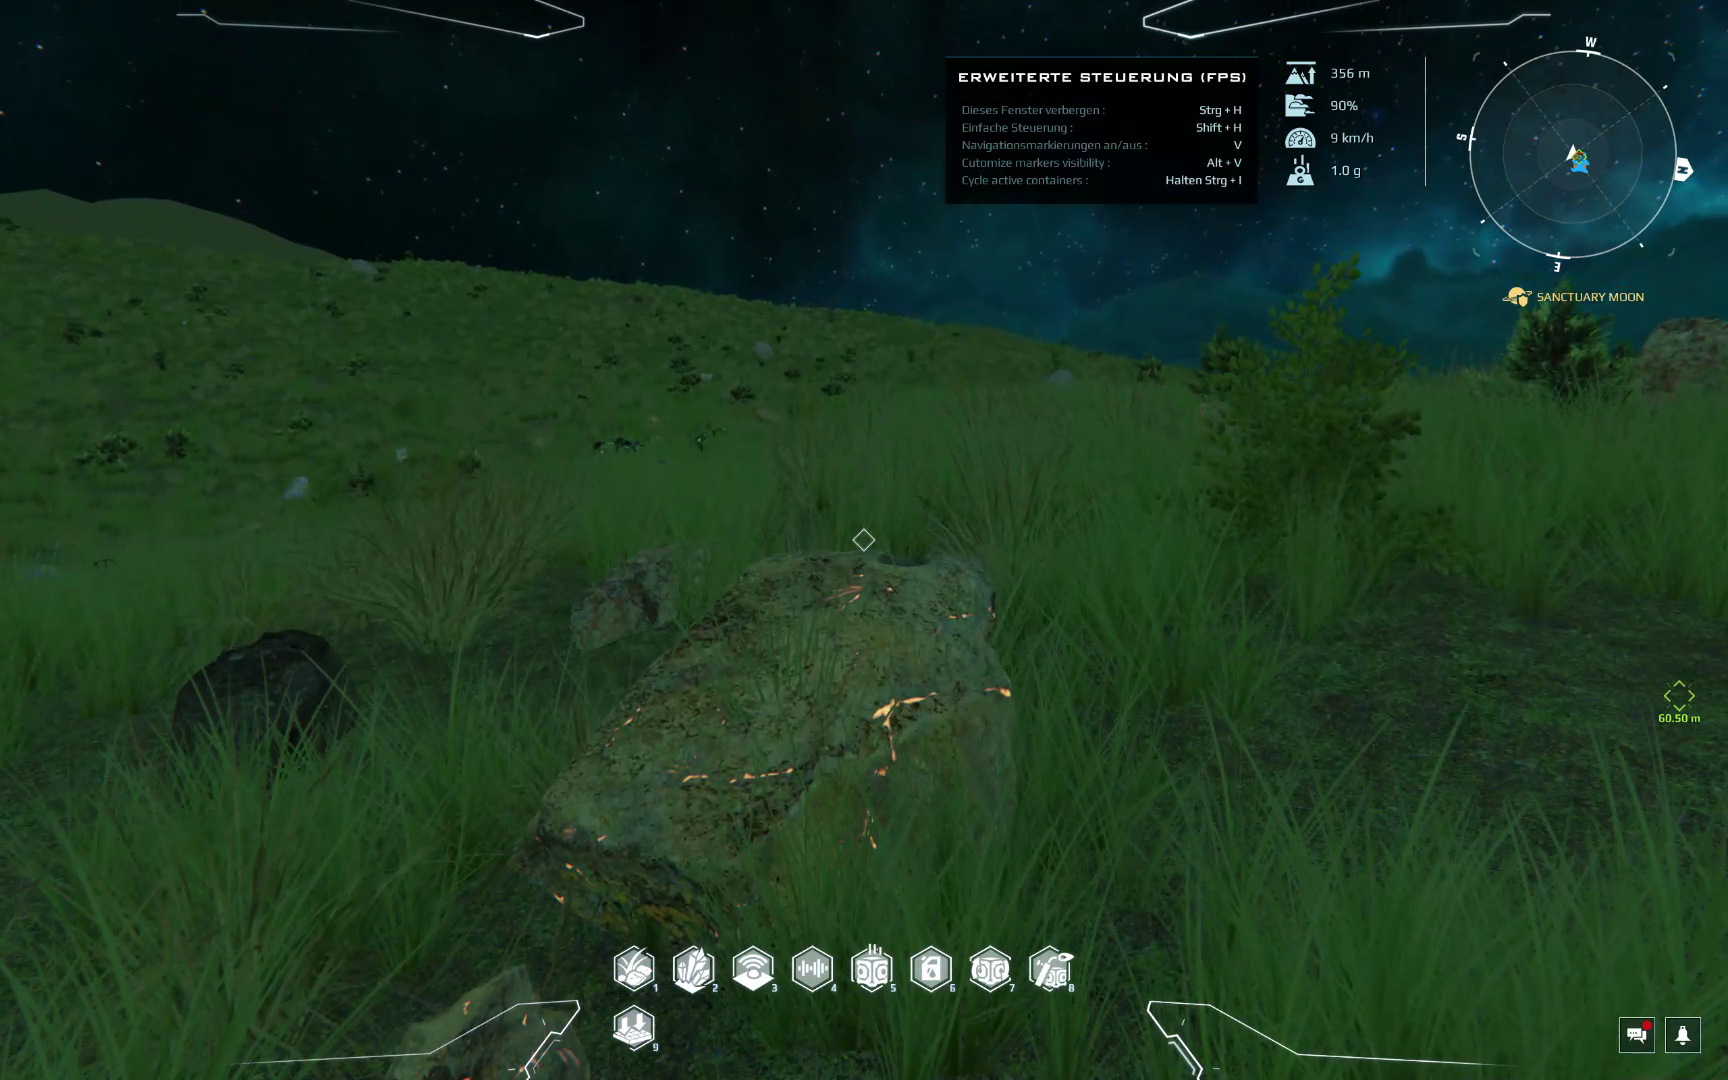Ore: (496, 549, 1023, 966), (365, 956, 602, 1080), (156, 627, 355, 739), (557, 534, 684, 647)
